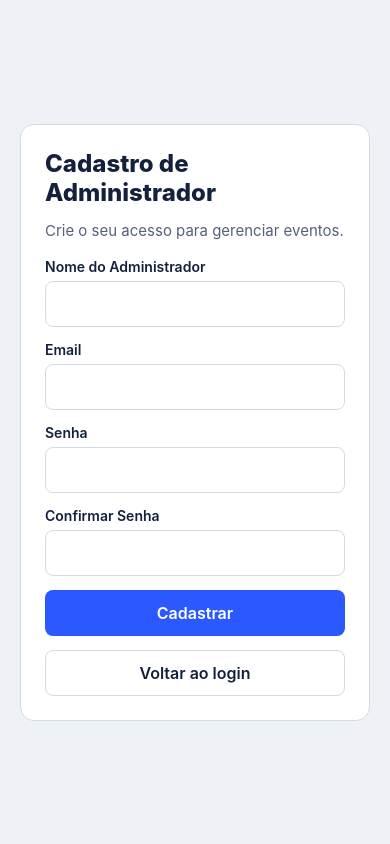
it: senha com menos de 6 caracteres é barrada antes da API
Type "Maria Silva" into the field named "Nome do Administrador".
click(195, 304); type("Maria Silva")  # box [45,280,345,326]
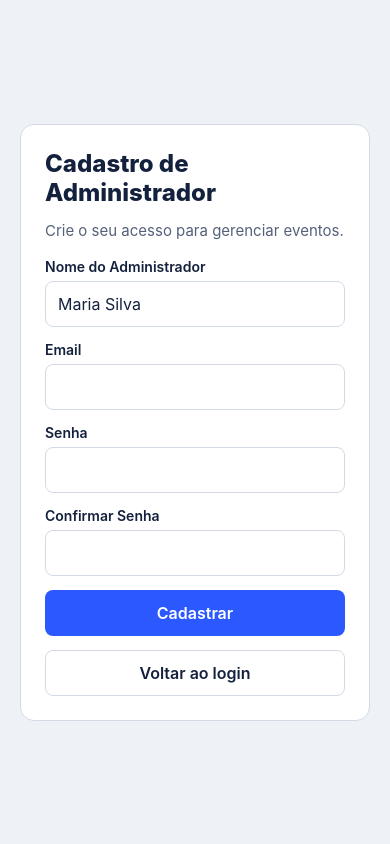
Type "maria@email.com" into the field named "Email".
click(195, 386); type("maria@email.com")  # box [45,364,345,410]
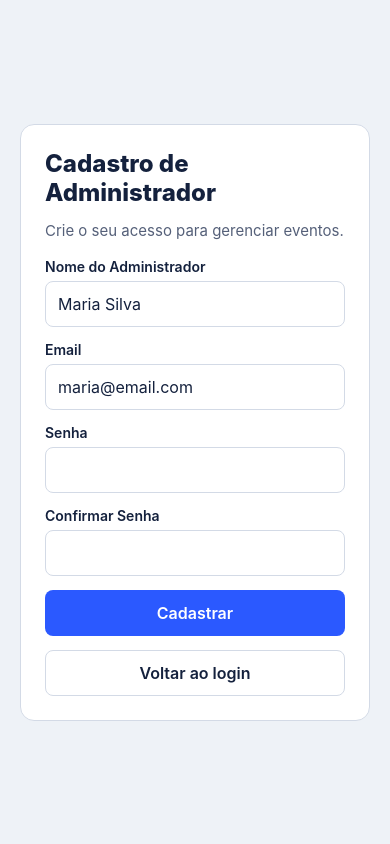
Type "12345" into the password field named "Senha".
click(195, 470); type("12345")  # box [45,446,345,492]
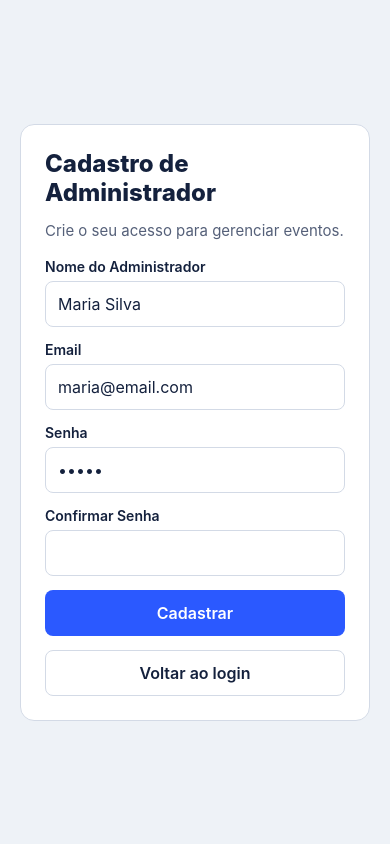
Type "12345" into the password field named "Confirmar Senha".
click(195, 552); type("12345")  # box [45,530,345,576]
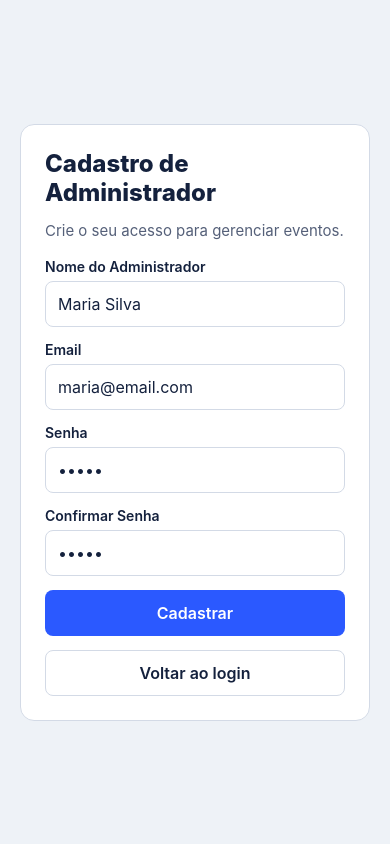
Click the button "Cadastrar".
click(195, 612)  # box [45,590,345,636]
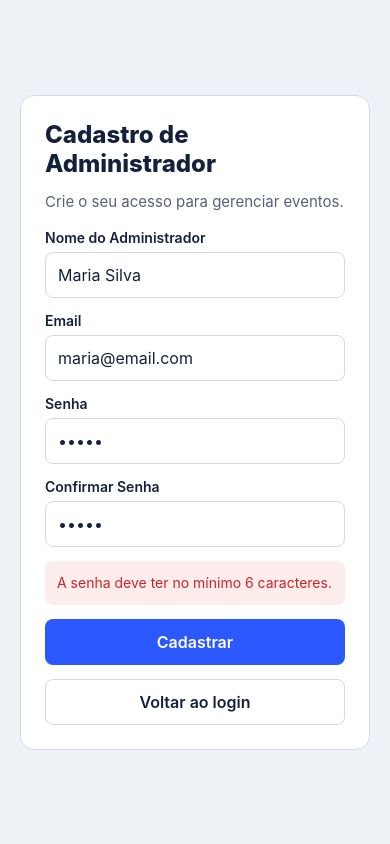
Expected: the text "A senha deve ter no mínimo 6 caracteres." is shown, [45,560,345,604]
